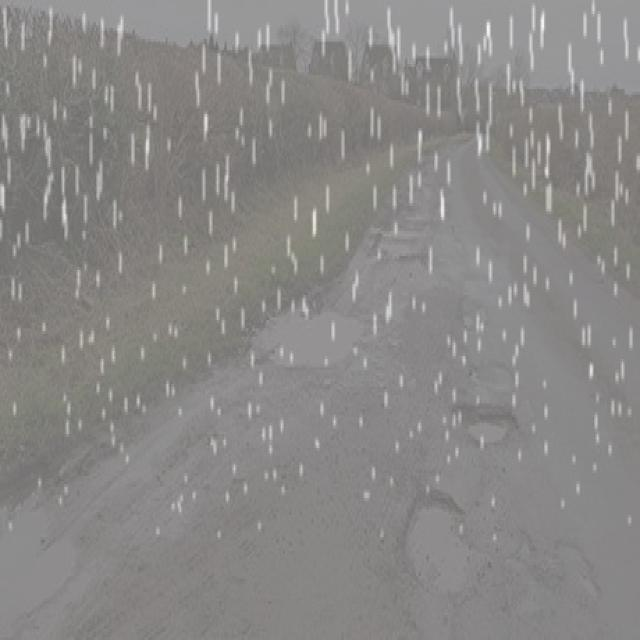Pothole: (254, 284, 388, 379), (398, 475, 488, 605), (449, 379, 520, 450), (366, 198, 438, 266), (509, 525, 538, 567)
